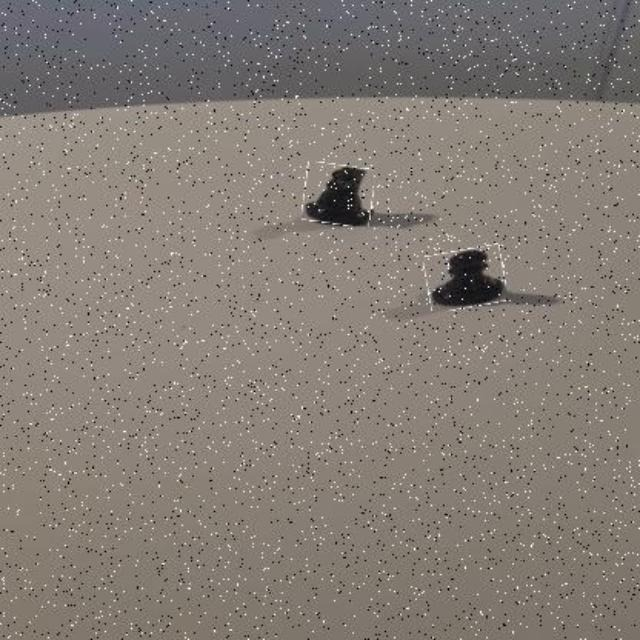black-knight: (303, 164, 373, 225)
black-pawn: (425, 247, 506, 309)
